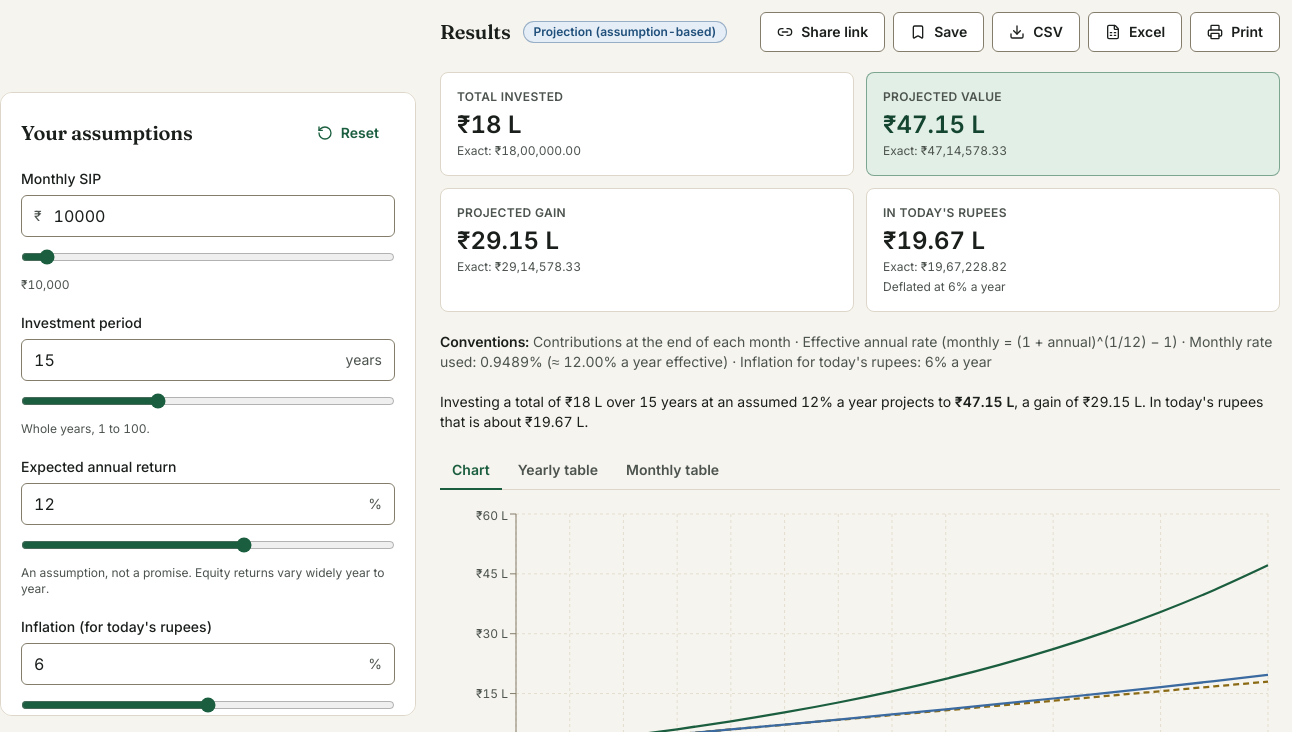
Test: SIP calculator › reset restores the default assumptions
Clear the field labelled "Monthly SIP" at (218, 216), box x1=42 y1=196 x2=394 y2=236
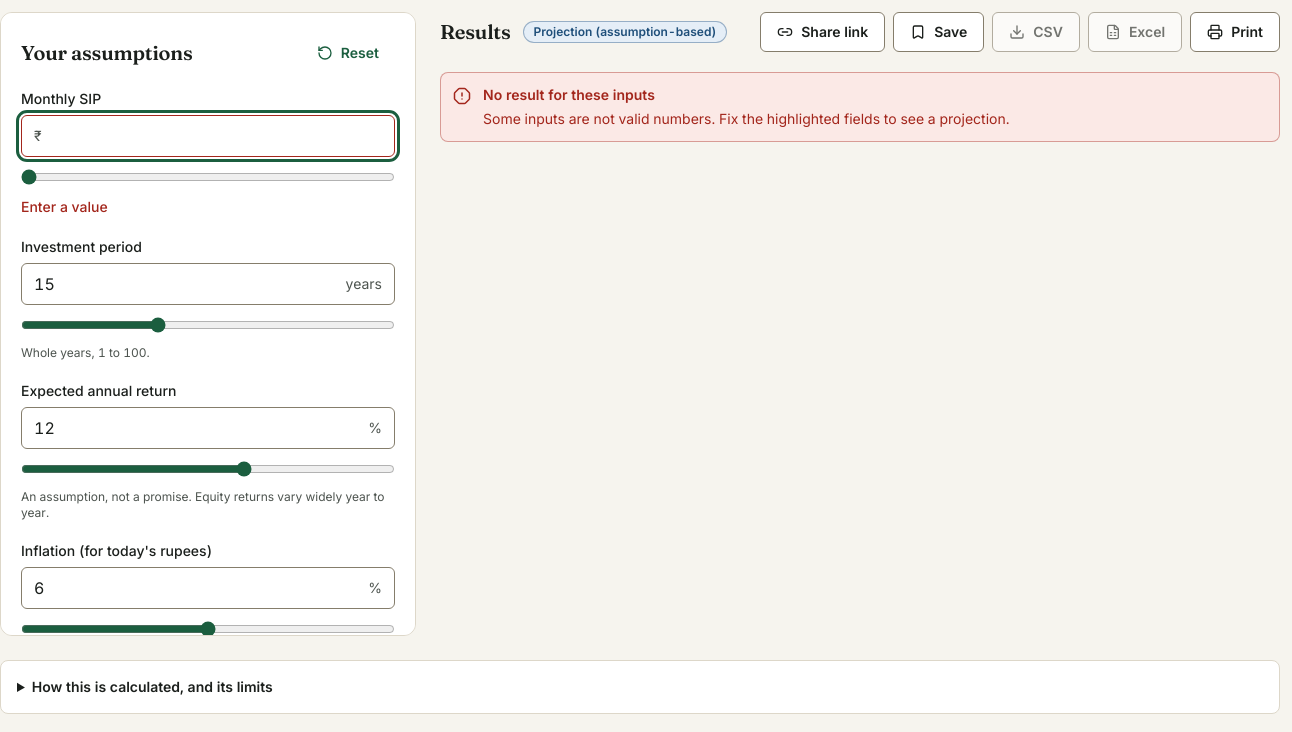
Type "999" into the field labelled "Monthly SIP" at (218, 136), box x1=42 y1=116 x2=394 y2=156
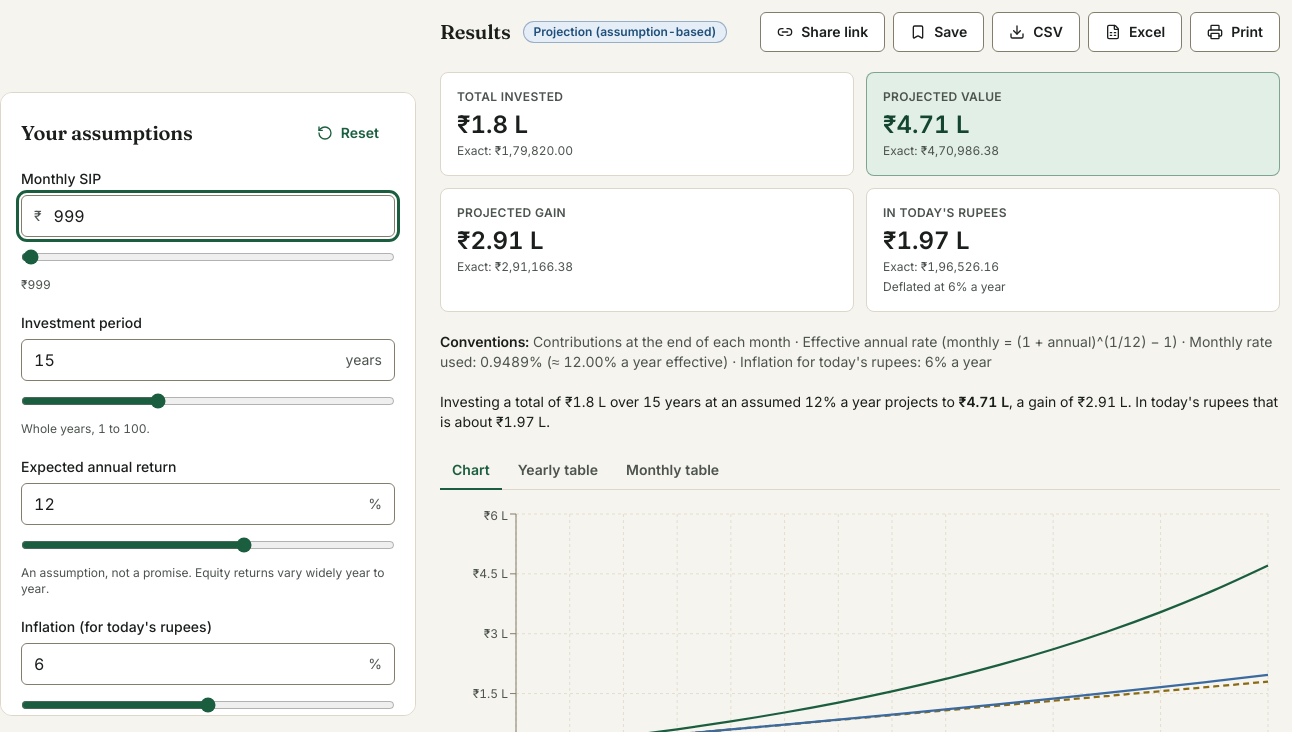
Click the button "Reset" at (348, 133), box x1=301 y1=113 x2=395 y2=153
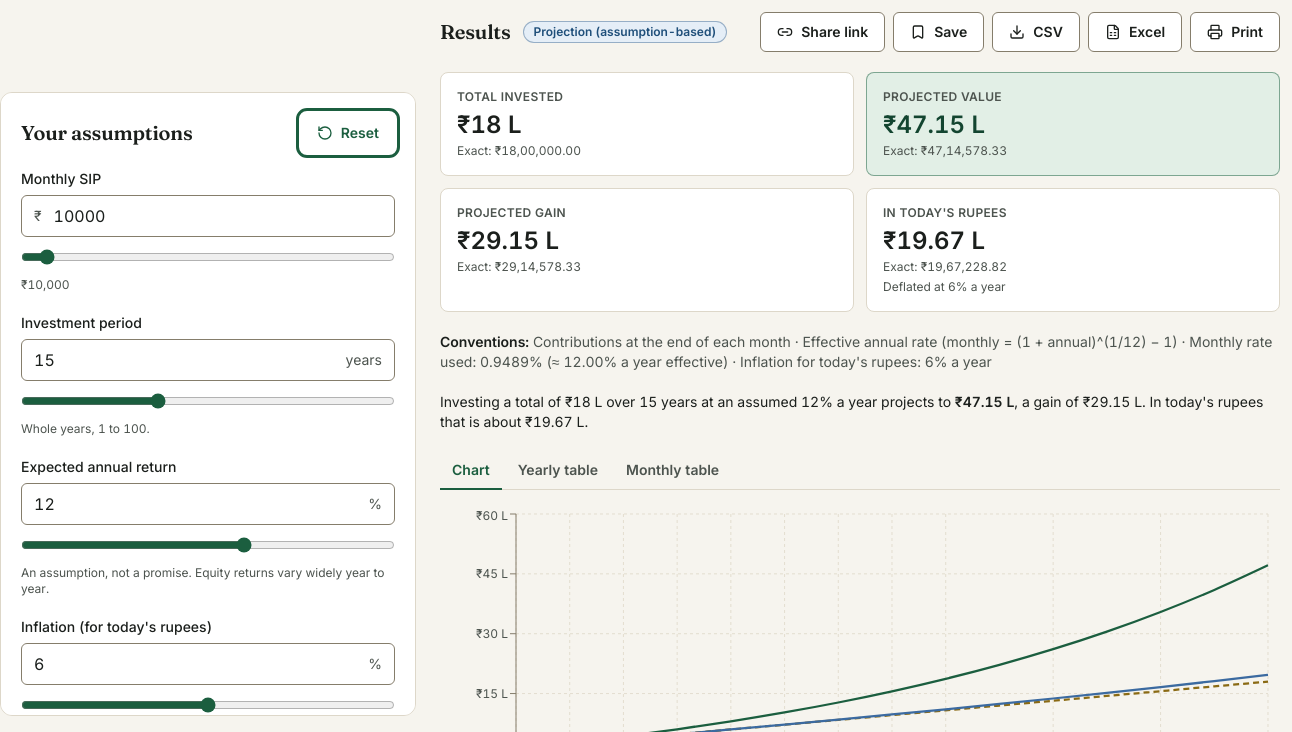
Now the field labelled "Monthly SIP" holds "10000", box x1=42 y1=196 x2=394 y2=236
